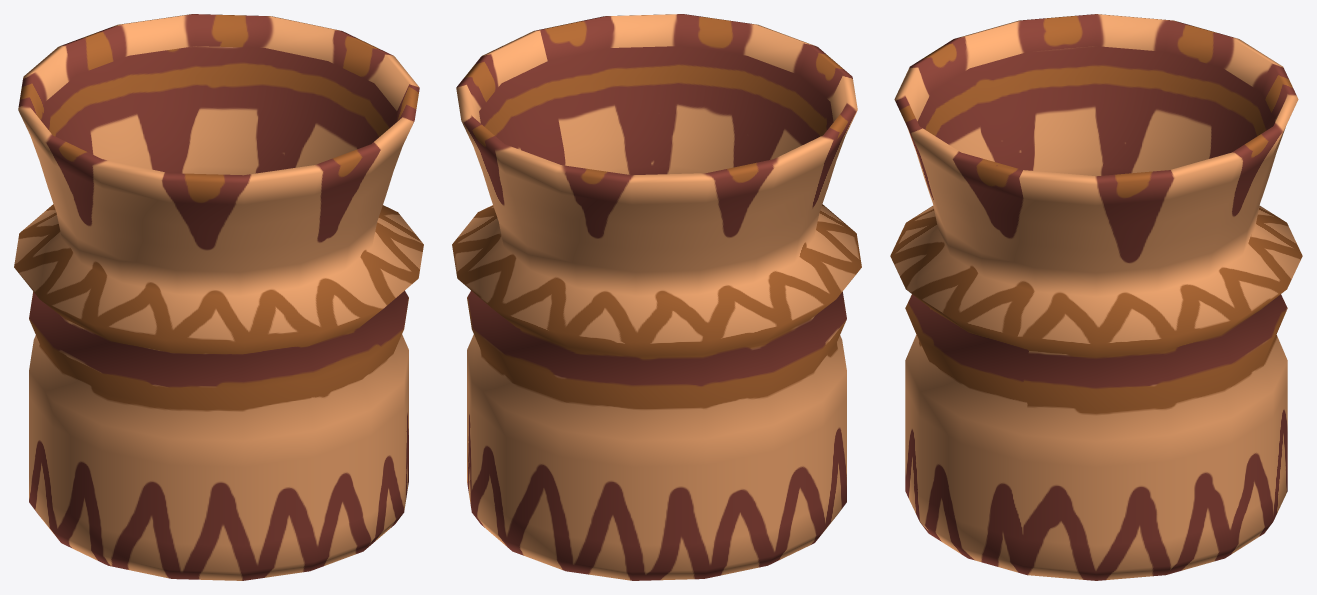
The model's file is Pot_3.fbx.
3 views of the same model, side by side, from view 1: azimuth 30°, elevation 25°; view 2: azimuth 150°, elevation 25°; view 3: azimuth 270°, elevation 25° (orthographic).
Parts seen in each view (by area): view 1: Plane; view 2: Plane; view 3: Plane.
Part boxes in pixels (<box>): Plane: <box>14,14,423,580</box>; Plane: <box>452,14,861,580</box>; Plane: <box>890,14,1302,580</box>.
Bounding box in the file's own units: 179 × 198 × 179.
